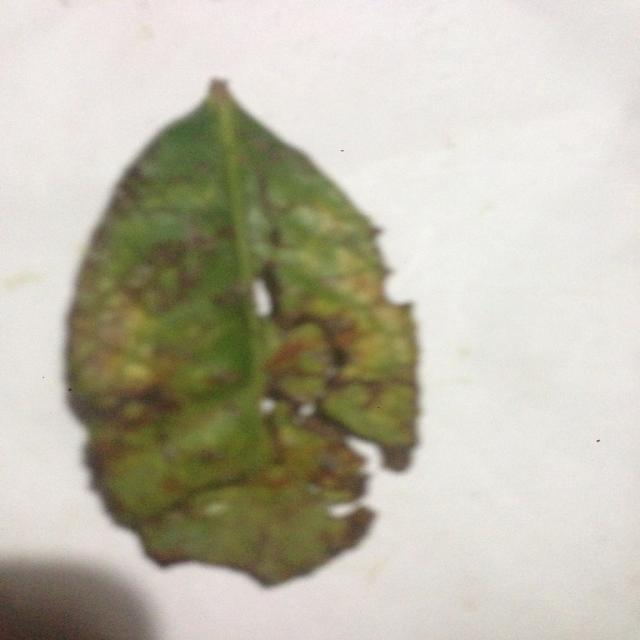Red Leaf Spot: (42, 70, 488, 587)
